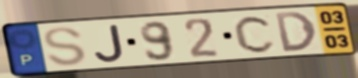2: (183, 17, 221, 59)
9: (138, 20, 176, 62)
C: (232, 14, 279, 55)
D: (272, 10, 320, 54)
J: (92, 23, 127, 64)
S: (42, 25, 89, 68)
